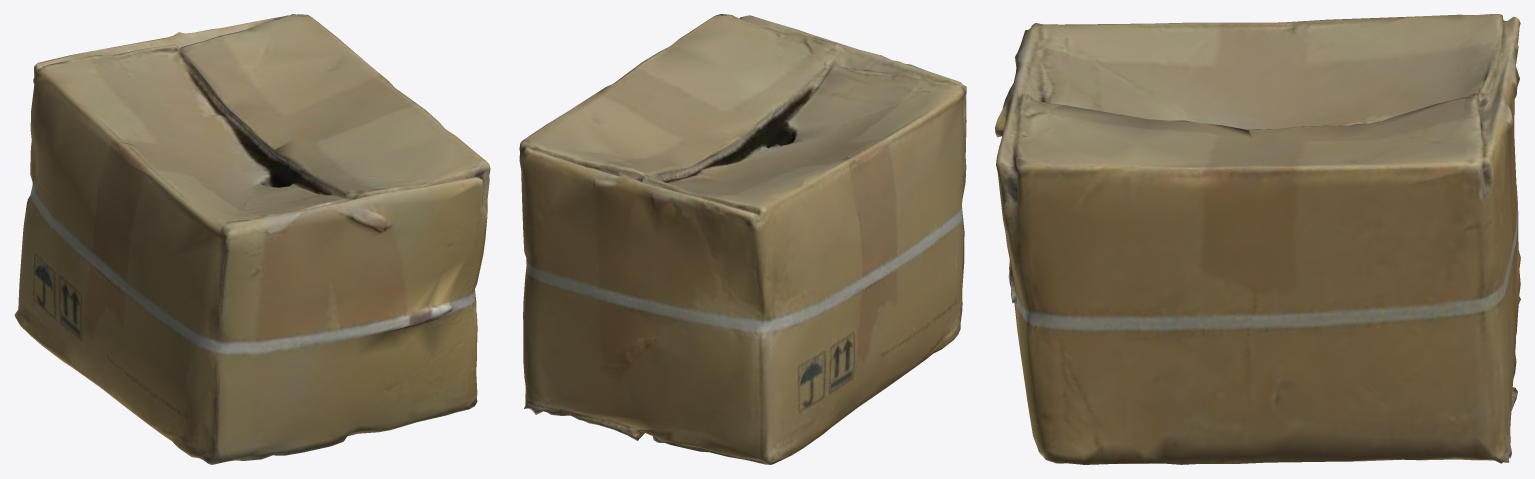
File: cardboard_box_01_lod1.glb
The picture shows the model from 3 angles, left to right: view 1: azimuth 30°, elevation 25°; view 2: azimuth 150°, elevation 25°; view 3: azimuth 270°, elevation 25°; orthographic projection. The views are drawn at different scales.
Visible parts, largest first — view 1: cardboard_box_01; view 2: cardboard_box_01; view 3: cardboard_box_01.
Boxes of the visible parts, x1,y1,x2,y2 form: cardboard_box_01: [14, 14, 490, 464]; cardboard_box_01: [519, 14, 966, 464]; cardboard_box_01: [995, 14, 1520, 464].
Size of the model in its own units: 0.3869 by 0.3418 by 0.5159.
Materials: 1 (1 with a texture image).
